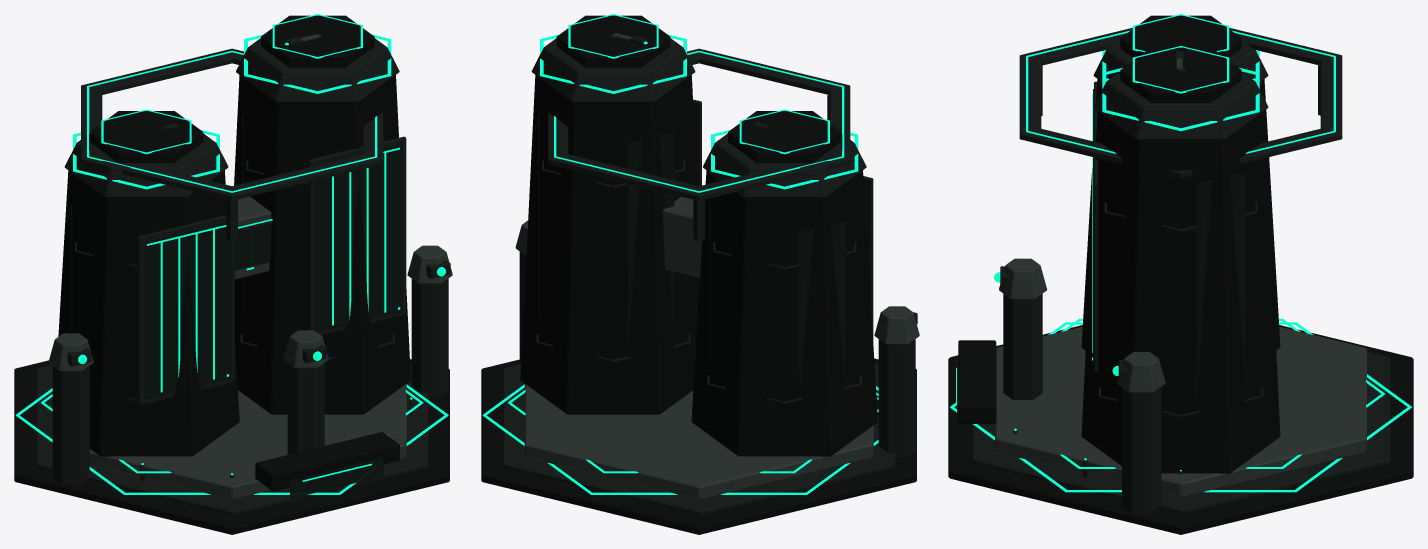
Rendered from vevi.glb.
The picture shows the model from 3 angles, left to right: view 1: azimuth 30°, elevation 25°; view 2: azimuth 150°, elevation 25°; view 3: azimuth 270°, elevation 25°; orthographic projection. The views are drawn at different scales.
Visible parts, largest first — view 1: VMH_EastTower_Body, VMH_WestTower_Body, VMH_EastTower_FrontScreen_Frame, VMH_WestTower_FrontScreen_Frame, VMH_Foundation, VMH_WestTower_FrontScreen_SmokeGlass, VMH_EastTower_FrontScreen_SmokeGlass, VMH_Podium, VMH_BroadcastCrownFrame, VMH_MediaPlaza, VMH_EastTower_CrownShoulder, VMH_WestTower_CrownCap (+16 smaller); view 2: VMH_EastTower_Body, VMH_WestTower_Body, VMH_Podium, VMH_Foundation, VMH_MediaPlaza, VMH_BroadcastCrownFrame, VMH_EastTower_CrownShoulder, VMH_WestTower_CrownCap, VMH_EastTower_CrownCap, VMH_WestTower_CrownShoulder, VMH_PerimeterCameraPylon_1, VMH_WestTower_SideGlass_2 (+10 smaller); view 3: VMH_EastTower_Body, VMH_Podium, VMH_Foundation, VMH_MediaPlaza, VMH_BroadcastCrownFrame, VMH_EastTower_CrownShoulder, VMH_EastTower_CrownCap, VMH_PerimeterCameraPylon_2, VMH_PerimeterCameraPylon_3, VMH_EastTower_SideGlass_1, VMH_WestTower_CrownCap, VMH_EntryCanopy (+9 smaller).
Boxes of the visible parts, x1,y1,x2,y2 form: VMH_EastTower_Body: [234, 75, 410, 414]; VMH_WestTower_Body: [58, 170, 239, 456]; VMH_EastTower_FrontScreen_Frame: [308, 136, 406, 335]; VMH_WestTower_FrontScreen_Frame: [137, 215, 234, 404]; VMH_Foundation: [14, 359, 449, 534]; VMH_WestTower_FrontScreen_SmokeGlass: [144, 221, 231, 399]; VMH_EastTower_FrontScreen_SmokeGlass: [315, 143, 402, 332]; VMH_Podium: [89, 383, 406, 499]; VMH_BroadcastCrownFrame: [81, 48, 383, 200]; VMH_MediaPlaza: [36, 364, 428, 516]; VMH_EastTower_CrownShoulder: [236, 38, 399, 102]; VMH_WestTower_CrownCap: [89, 111, 203, 162]; VMH_EastTower_Body: [520, 75, 699, 414]; VMH_WestTower_Body: [691, 170, 877, 456]; VMH_Podium: [524, 384, 873, 499]; VMH_Foundation: [481, 358, 916, 534]; VMH_MediaPlaza: [503, 363, 895, 516]; VMH_BroadcastCrownFrame: [548, 48, 850, 200]; VMH_EastTower_CrownShoulder: [531, 38, 695, 102]; VMH_WestTower_CrownCap: [728, 111, 841, 162]; VMH_EastTower_CrownCap: [556, 15, 670, 67]; VMH_WestTower_CrownShoulder: [703, 133, 866, 197]; VMH_PerimeterCameraPylon_1: [878, 339, 915, 457]; VMH_WestTower_SideGlass_2: [798, 221, 845, 398]; VMH_EastTower_Body: [1081, 111, 1280, 473]; VMH_Podium: [995, 327, 1366, 497]; VMH_Foundation: [948, 325, 1413, 534]; VMH_MediaPlaza: [971, 351, 1390, 514]; VMH_BroadcastCrownFrame: [1019, 28, 1342, 178]; VMH_EastTower_CrownShoulder: [1093, 72, 1268, 139]; VMH_EastTower_CrownCap: [1120, 47, 1241, 102]; VMH_PerimeterCameraPylon_2: [1122, 387, 1161, 513]; VMH_PerimeterCameraPylon_3: [1003, 294, 1042, 399]; VMH_EastTower_SideGlass_1: [1196, 172, 1245, 401]; VMH_WestTower_CrownCap: [1120, 15, 1241, 57]; VMH_EntryCanopy: [958, 340, 996, 423].
Bounding box in the file's own units: 67.8 × 55.93 × 58.89.
